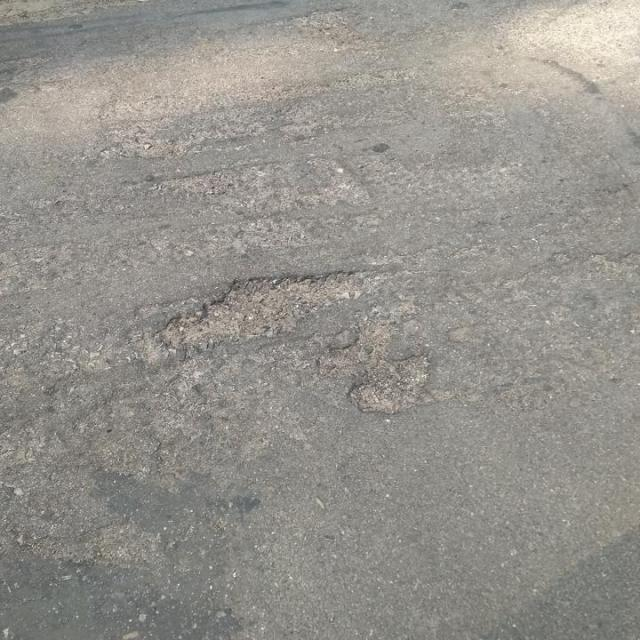Pothole: (138, 223, 407, 351), (329, 345, 447, 410)
